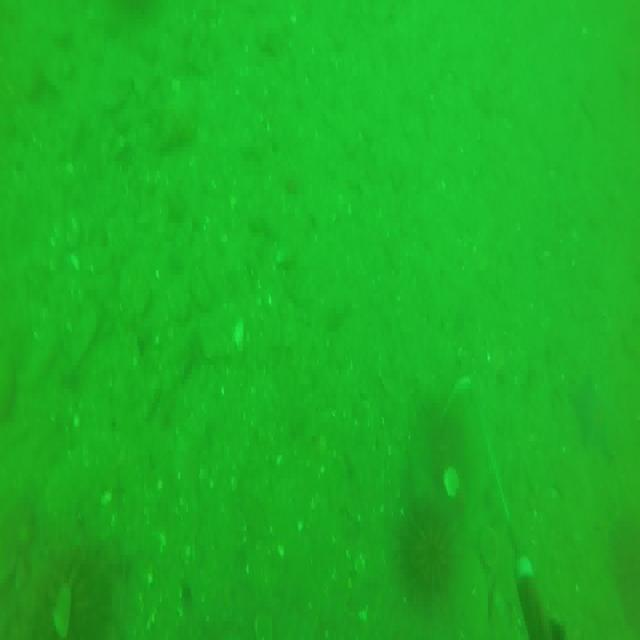echinus: (28, 556, 102, 640), (403, 515, 462, 604)
scallop: (443, 472, 461, 495)
starfish: (570, 378, 616, 462)
